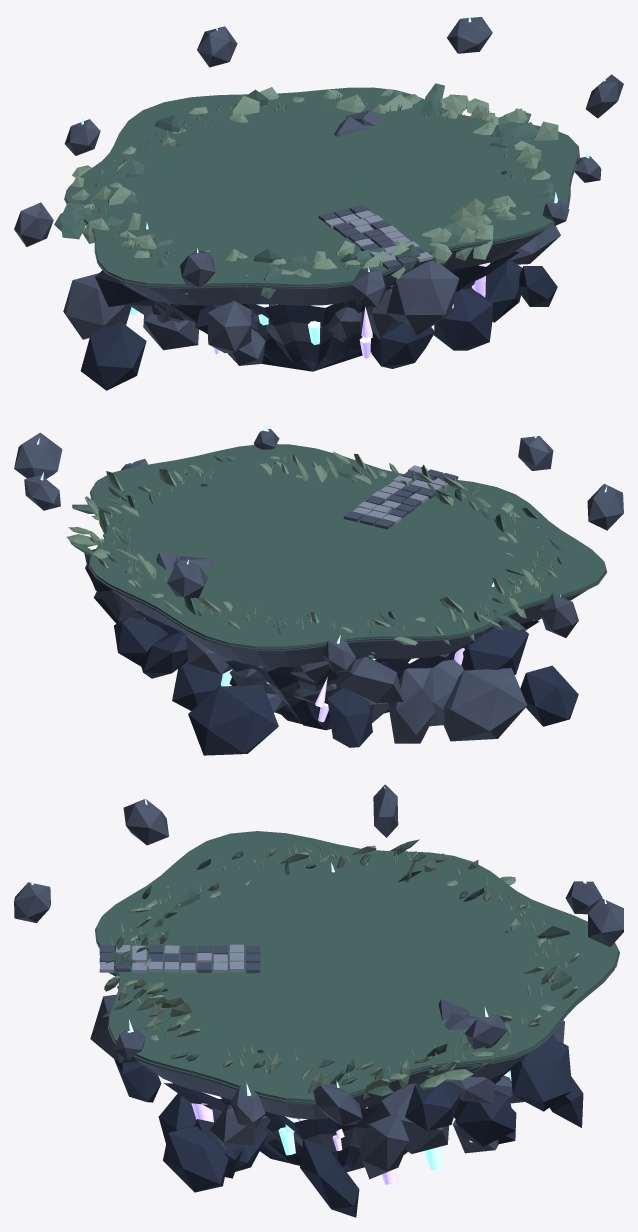
File: archive-island.glb
The picture shows the model from 3 angles, top to bottom: view 1: azimuth 30°, elevation 25°; view 2: azimuth 150°, elevation 25°; view 3: azimuth 270°, elevation 25°; orthographic projection. The views are drawn at different scales.
Parts seen in each view (by area): view 1: ArchiveIsland_grass, ArchiveIsland_stone, ArchiveIsland_dark, ArchiveIsland_moss, ArchiveIsland_edge, FloatingRock_5_stone, FloatingRock_4_stone, FloatingRock_2_stone, FloatingRock_6_stone, FloatingRock_1_stone, FloatingRock_0_stone, FloatingRock_7_stone (+2 smaller); view 2: ArchiveIsland_grass, ArchiveIsland_stone, ArchiveIsland_dark, ArchiveIsland_moss, FloatingRock_0_stone, ArchiveIsland_edge, FloatingRock_1_stone, FloatingRock_4_stone, FloatingRock_2_stone, FloatingRock_6_stone, FloatingRock_5_stone, FloatingRock_7_stone; view 3: ArchiveIsland_grass, ArchiveIsland_dark, ArchiveIsland_stone, ArchiveIsland_moss, ArchiveIsland_edge, FloatingRock_1_stone, FloatingRock_0_stone, FloatingRock_2_stone, FloatingRock_6_stone, FloatingRock_4_stone, FloatingRock_5_stone, FloatingRock_8_stone (+4 smaller).
Boxes of the visible parts, x1,y1,x2,y2 form: ArchiveIsland_grass: (54,83,578,306); ArchiveIsland_stone: (63,110,579,365); ArchiveIsland_dark: (80,171,557,390); ArchiveIsland_moss: (71,87,558,286); ArchiveIsland_edge: (325,210,432,262); FloatingRock_5_stone: (447,17,492,53); FloatingRock_4_stone: (14,202,53,246); FloatingRock_2_stone: (197,26,237,67); FloatingRock_6_stone: (351,268,386,307); FloatingRock_1_stone: (180,250,215,287); FloatingRock_0_stone: (585,74,623,118); FloatingRock_7_stone: (64,119,100,155); ArchiveIsland_grass: (70,444,605,658); ArchiveIsland_stone: (84,469,607,743); ArchiveIsland_dark: (85,483,578,755); ArchiveIsland_moss: (66,451,557,645); FloatingRock_0_stone: (14,432,62,478); ArchiveIsland_edge: (352,465,448,524); FloatingRock_1_stone: (587,483,623,530); FloatingRock_4_stone: (539,593,578,637); FloatingRock_2_stone: (167,562,207,598); FloatingRock_6_stone: (518,436,553,470); FloatingRock_5_stone: (24,475,60,510); FloatingRock_7_stone: (322,639,355,672); ArchiveIsland_grass: (96,831,618,1104); ArchiveIsland_dark: (114,1037,583,1217); ArchiveIsland_stone: (90,917,619,1179); ArchiveIsland_moss: (102,842,579,1099); ArchiveIsland_edge: (99,944,244,973); FloatingRock_1_stone: (123,799,168,845); FloatingRock_0_stone: (313,1083,362,1125); FloatingRock_2_stone: (588,898,623,946); FloatingRock_6_stone: (14,882,50,922); FloatingRock_4_stone: (373,784,398,837); FloatingRock_5_stone: (464,1014,507,1049); FloatingRock_8_stone: (230,1086,265,1128).
Size of the model in its own units: 21.76 by 9.09 by 17.27.
Materials: 7 (1 with a texture image).
